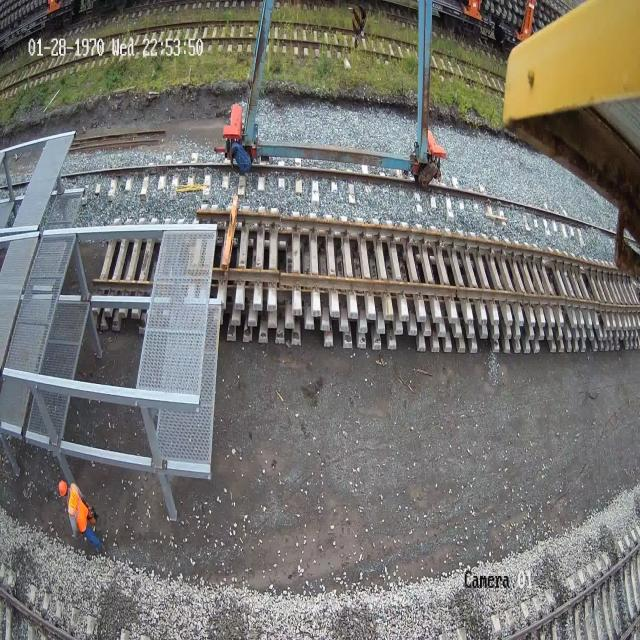Helmet: (58, 480, 67, 496)
Person: (58, 480, 102, 556)
